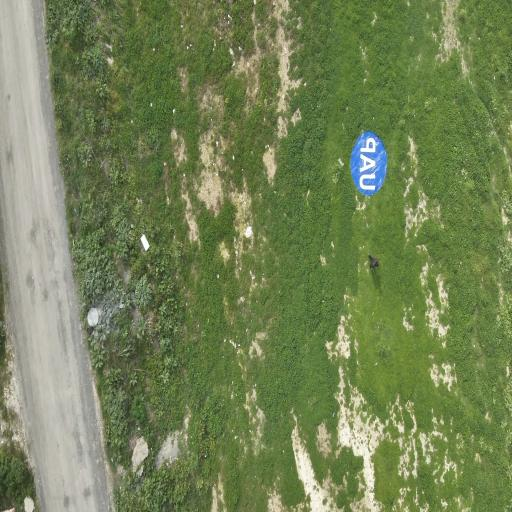UAP: (351, 131, 387, 194)
person: (369, 254, 378, 267)
